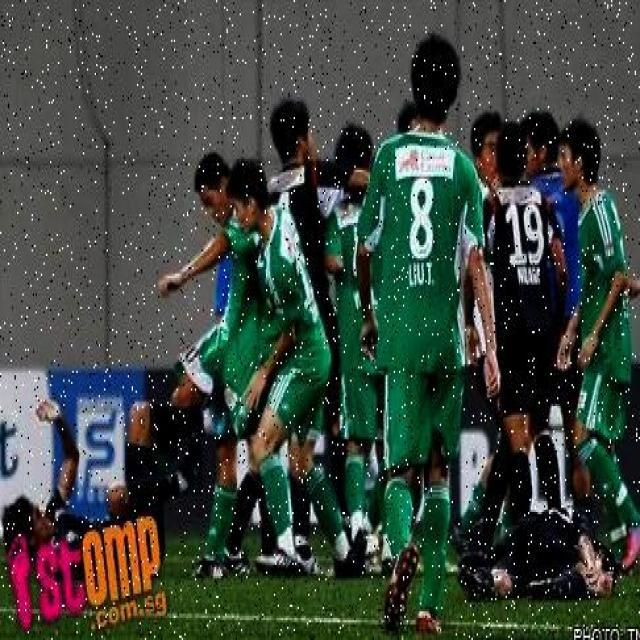fall: (16, 388, 195, 554)
